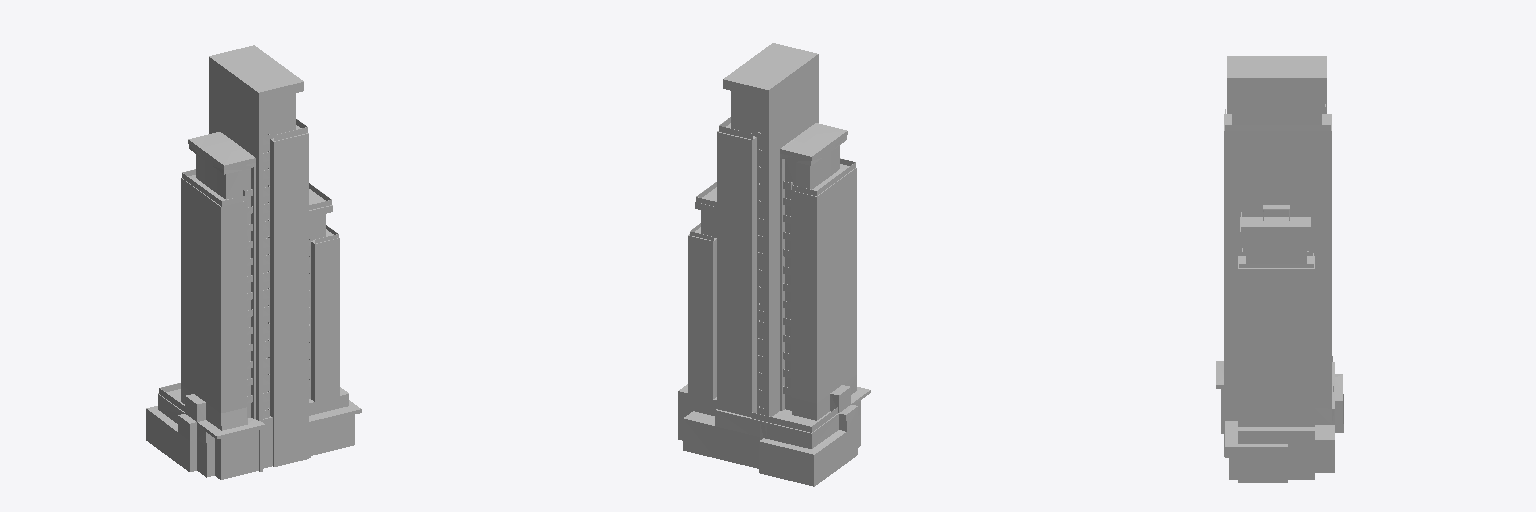
File: TB1kloeRVXXXXcfXpXXXXXXXXXX.obj
3 views of the same model, side by side, from view 1: azimuth 30°, elevation 25°; view 2: azimuth 150°, elevation 25°; view 3: azimuth 270°, elevation 25° (orthographic).
Visible parts, largest first — view 1: Ha L_block4; view 2: Ha L_block4; view 3: Ha L_block4.
Part boxes in pixels (left/top/right/bottom): Ha L_block4: left=146, top=45, right=361, bottom=479; Ha L_block4: left=678, top=43, right=870, bottom=486; Ha L_block4: left=1216, top=56, right=1343, bottom=482.
Size of the model in its own units: 16025 by 36827 by 11247.